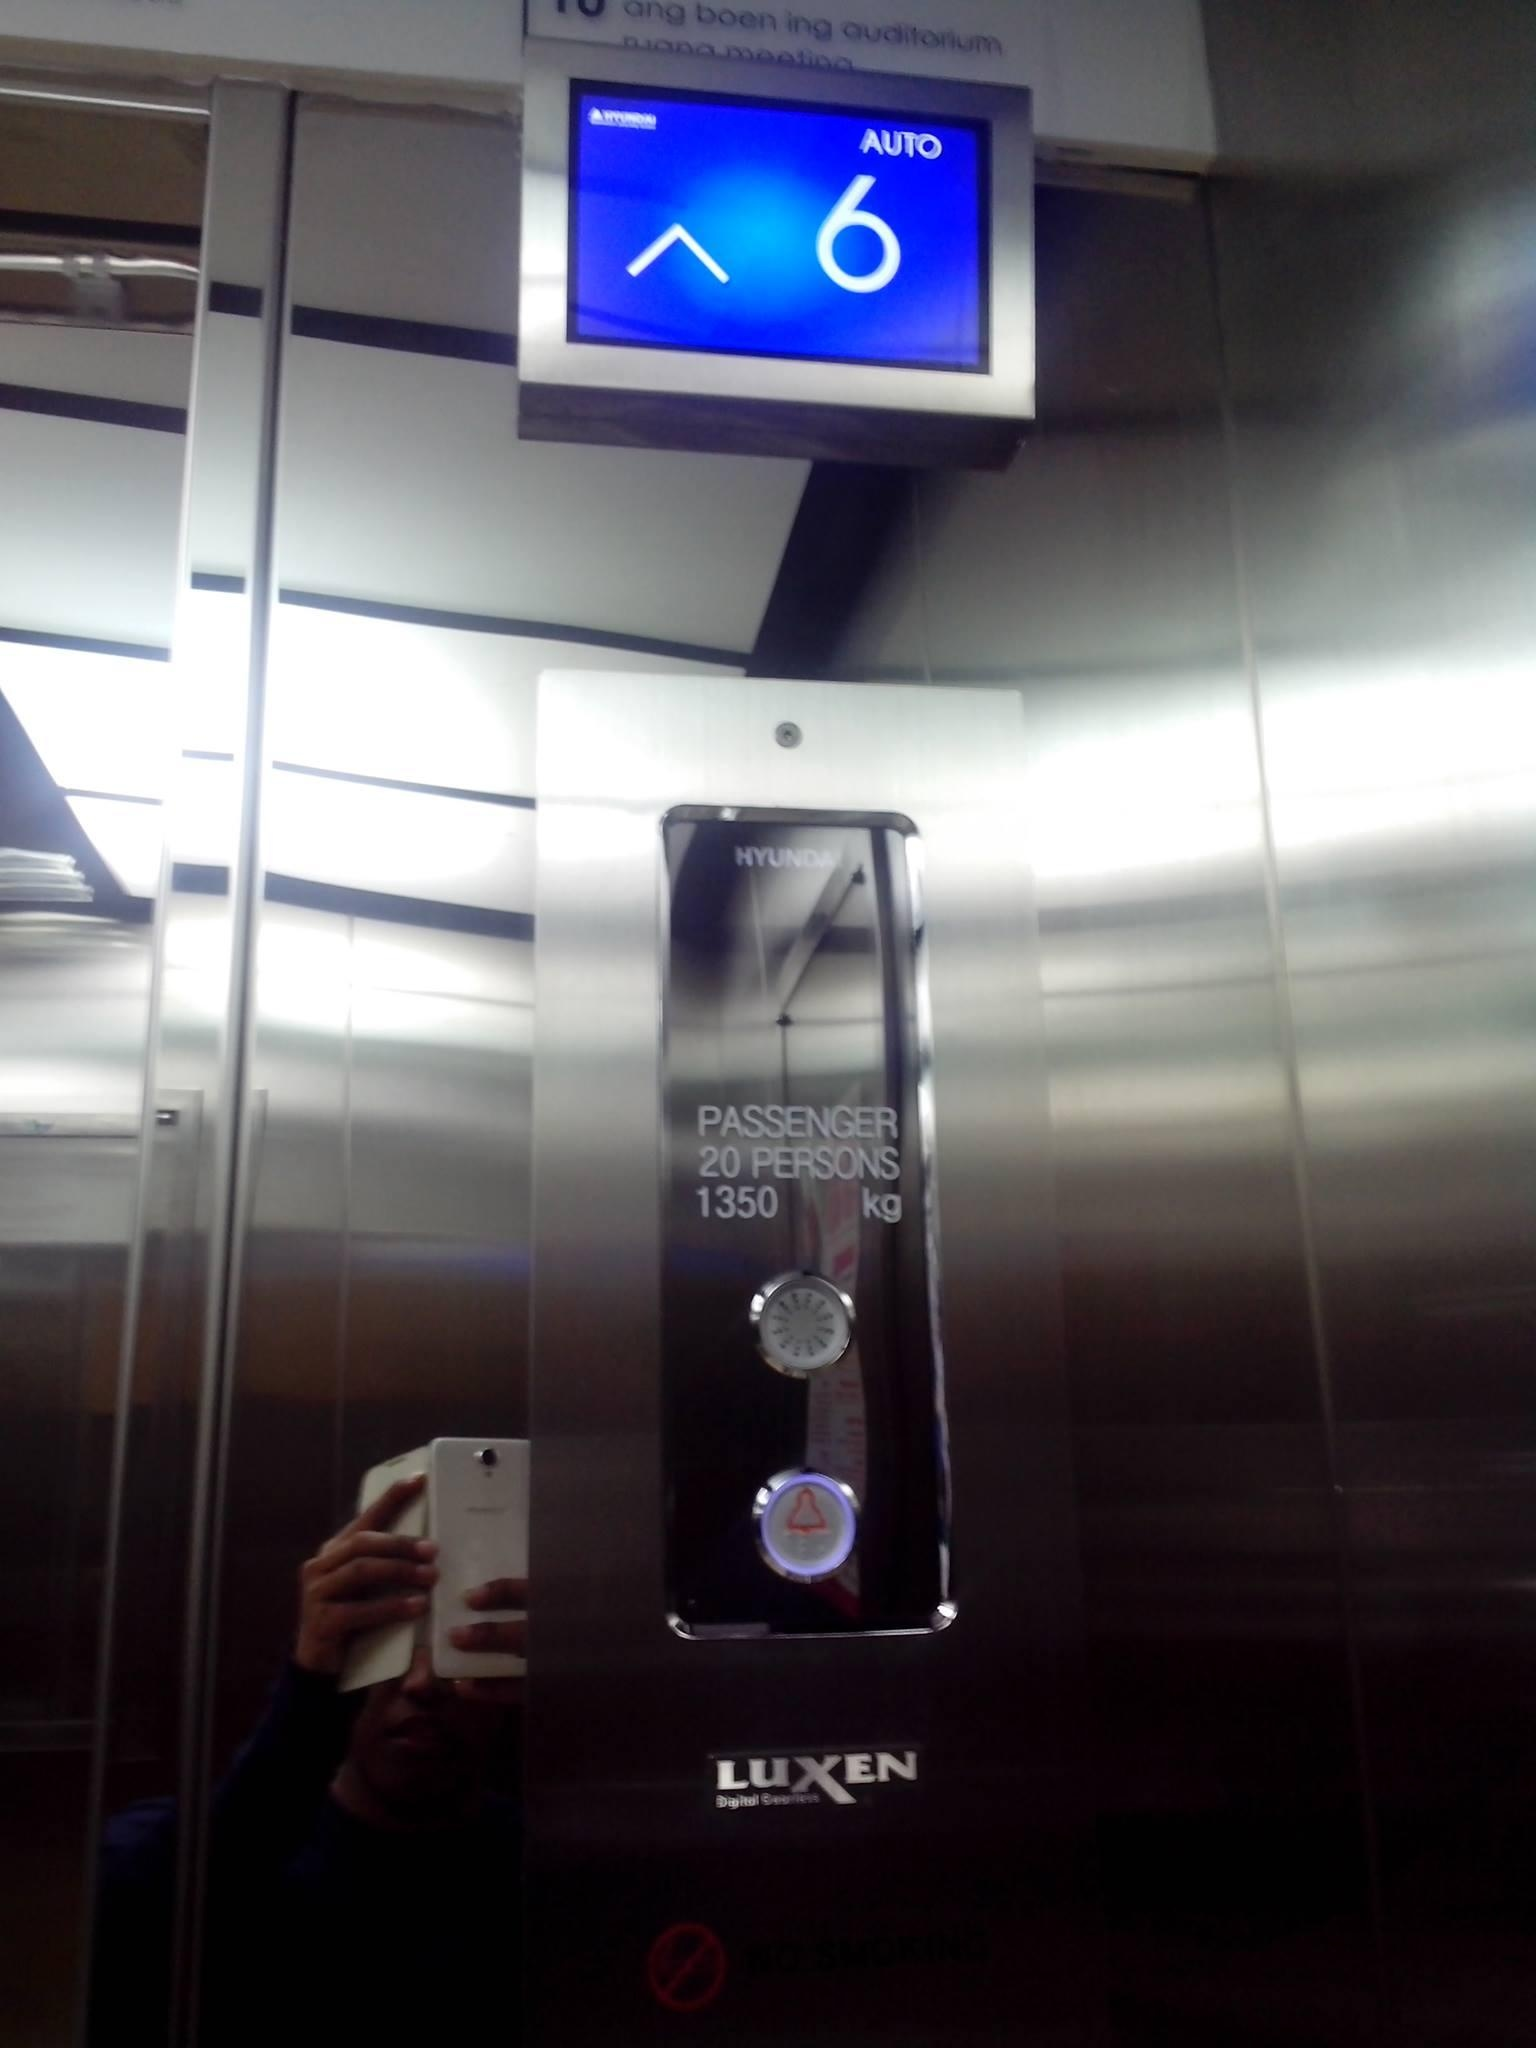alarm: (749, 1467, 863, 1584)
led: (552, 65, 1007, 382)
speaker: (745, 1269, 858, 1380)
